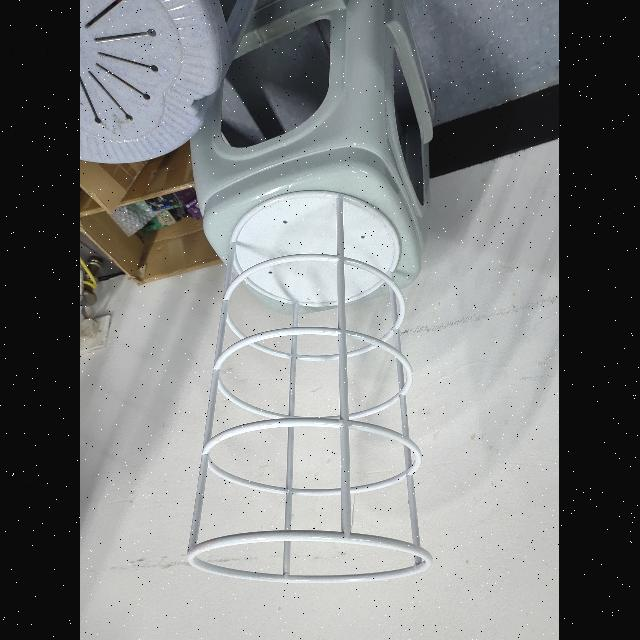S: (181, 183, 437, 589)
